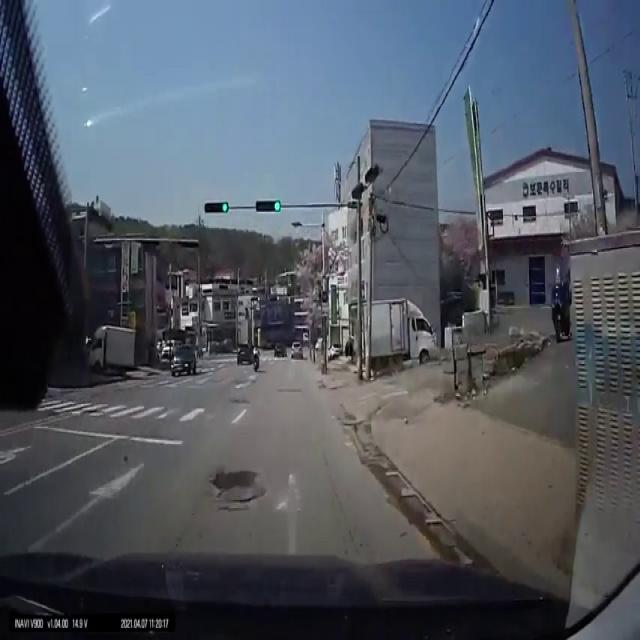Pothole: (212, 465, 258, 496)
